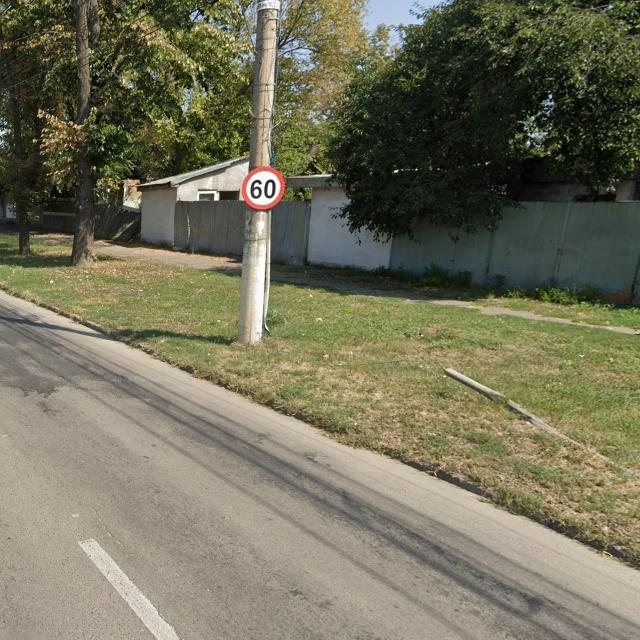forb_speed_over_60: (242, 166, 286, 211)
